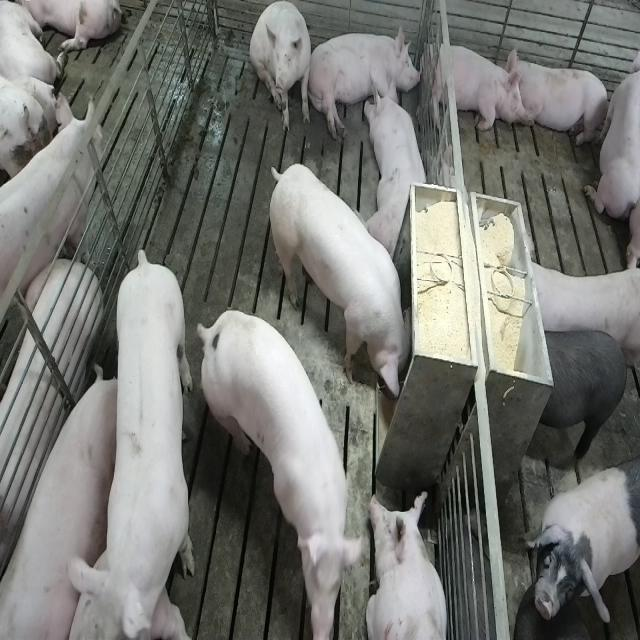Feeding: (264, 162, 411, 402)
Lateral_lying: (0, 367, 116, 639), (307, 22, 423, 142)
Sitting: (250, 2, 314, 134)
Standing: (200, 308, 368, 637), (71, 248, 197, 640), (0, 97, 100, 331), (524, 460, 638, 632), (531, 325, 630, 464), (521, 256, 637, 373)
Sternal_lying: (365, 491, 449, 640), (368, 76, 430, 258), (584, 35, 638, 224), (509, 51, 611, 150), (426, 37, 522, 135)
